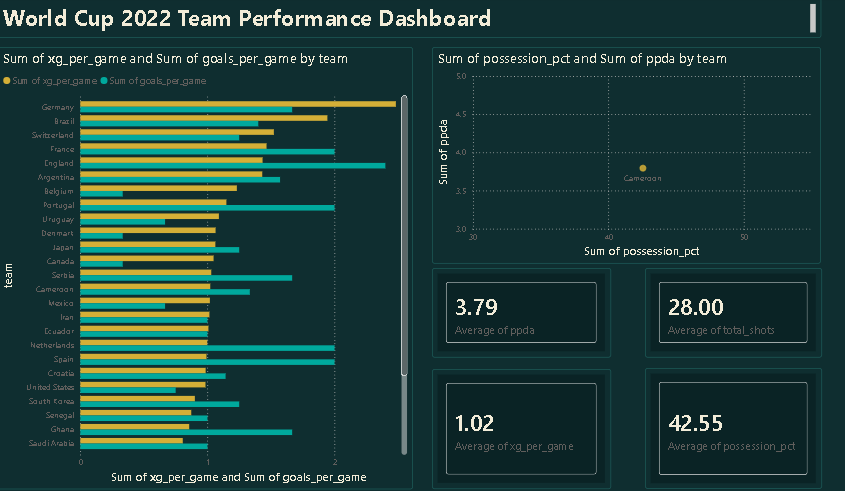

The page's visual inventory and layout, read from the dashboard file:
{"tool":"powerbi","page":{"name":"Page 1","canvas":[1280,720],"ordinal":0},"visuals":[{"type":"clusteredBarChart","fields":{"Category":["team_stats.team"],"Y":["Sum(team_stats.xg_per_game)","Sum(team_stats.goals_per_game)"]},"box":[0,71.7,598.5,636.6],"z":0},{"type":"scatterChart","fields":{"X":["Sum(team_stats.possession_pct)"],"Category":["team_stats.team"],"Y":["Sum(team_stats.ppda)"]},"box":[626.3,71.7,560.5,311.7],"z":1000},{"type":"cardVisual","fields":{"Data":["Avg(team_stats.xg_per_game)"]},"box":[626.3,535.6,257.6,172.7],"z":2000},{"type":"cardVisual","fields":{"Data":["Avg(team_stats.possession_pct)"]},"box":[933.7,534.1,254.6,174.1],"z":3000},{"type":"cardVisual","fields":{"Data":["Avg(team_stats.ppda)"]},"box":[626.3,390.7,257.6,128.8],"z":4000},{"type":"textbox","box":[0,0,656.8,58.8],"z":5000},{"type":"cardVisual","fields":{"Data":["Avg(team_stats.total_shots)"]},"box":[933.7,390.7,254.6,128.8],"z":5001}]}

Visuals, with their boxes on the page's 1280x720 design canvas (x1, y1, x2, y2). These are canvas units, not pixel positions in the 845x491 screenshot, which may show the page scaled, cropped or inside an application window:
clusteredBarChart - team_stats.team x Sum(team_stats.xg_per_game): l=0, t=72, r=598, b=708
scatterChart - Sum(team_stats.possession_pct) x team_stats.team: l=626, t=72, r=1187, b=383
cardVisual - Avg(team_stats.xg_per_game): l=626, t=536, r=884, b=708
cardVisual - Avg(team_stats.possession_pct): l=934, t=534, r=1188, b=708
cardVisual - Avg(team_stats.ppda): l=626, t=391, r=884, b=520
textbox: l=0, t=0, r=657, b=59
cardVisual - Avg(team_stats.total_shots): l=934, t=391, r=1188, b=520
